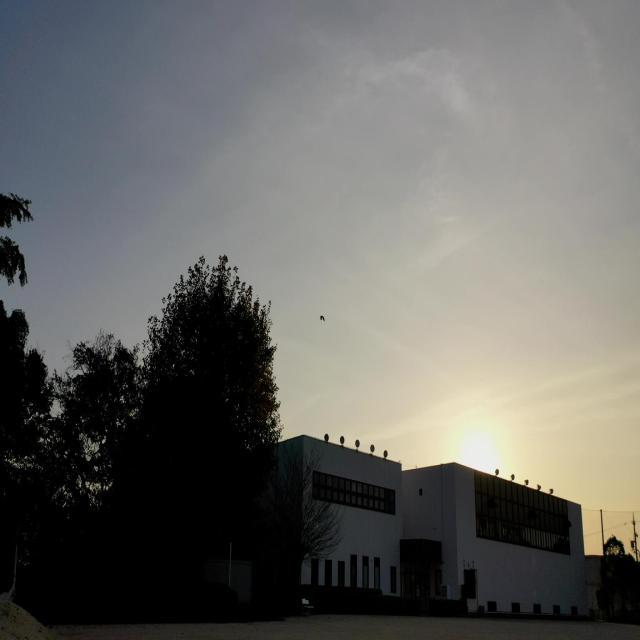Birds: (313, 305, 333, 328)
